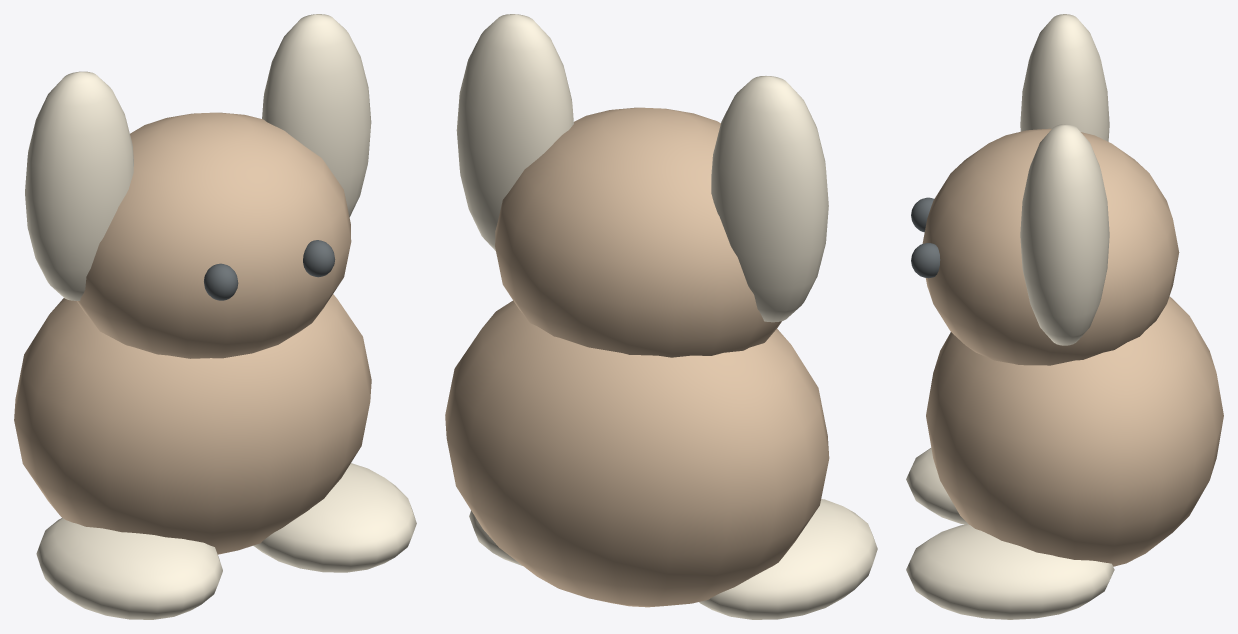
The picture shows the model from 3 angles, left to right: view 1: azimuth 30°, elevation 25°; view 2: azimuth 150°, elevation 25°; view 3: azimuth 270°, elevation 25°; orthographic projection. The views are drawn at different scales.
Visible parts, largest first — view 1: body, head, ear (×2), foot (×2), eye (×2); view 2: body, head, ear (×2), foot; view 3: body, head, ear (×2), foot (×2), eye (×2).
Boxes of the visible parts, <box> form: body: <box>14,294,371,554</box>; head: <box>77,112,351,358</box>; ear (×2): <box>25,14,371,300</box>; foot (×2): <box>36,463,416,619</box>; eye (×2): <box>204,240,335,300</box>; body: <box>445,300,829,607</box>; head: <box>495,107,781,357</box>; ear (×2): <box>456,14,828,322</box>; foot: <box>699,499,877,619</box>; body: <box>926,296,1223,566</box>; head: <box>922,128,1179,365</box>; ear (×2): <box>1020,14,1109,345</box>; foot (×2): <box>906,448,1114,619</box>; eye (×2): <box>911,197,940,278</box>.
Bounding box in the file's own units: 0.12 × 0.17 × 0.1.
